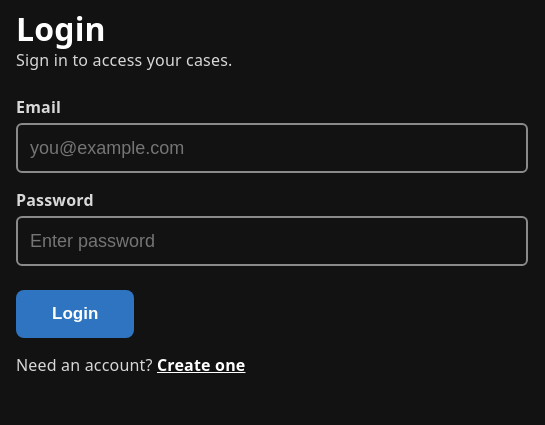
Scenario: LoginScreen errors (spec 016) › announces a failed login without marking a field
Type "daniel@example.com" into the field with placeholder "you@example.com" at (272, 148), box [16,123,528,173]
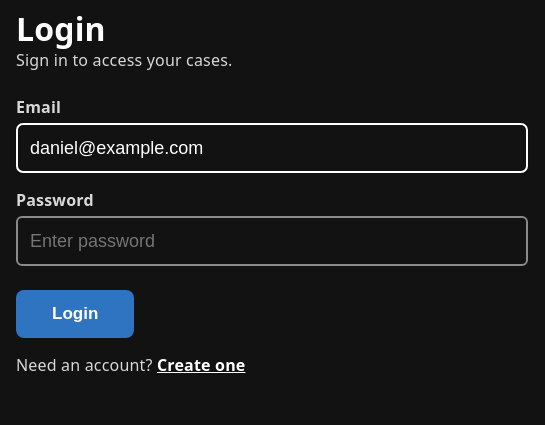
Type "secret123" into the password field with placeholder "Enter password" at (272, 241), box [16,216,528,266]
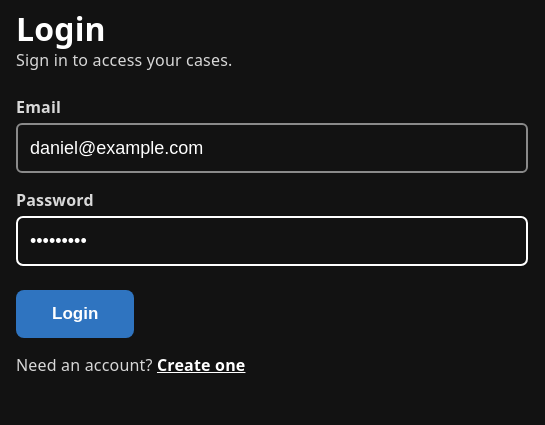
Click the button "Login" at (75, 314), box [16,290,134,338]
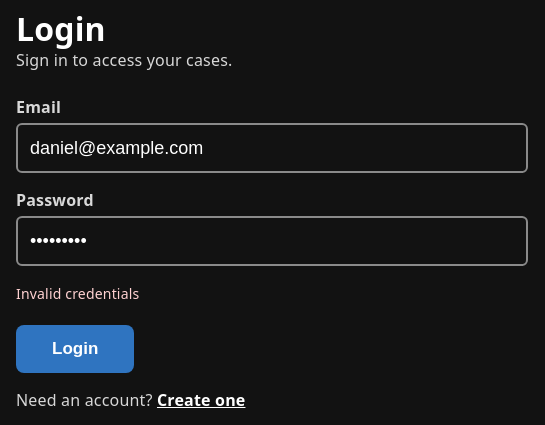
Expected: the message reads "Invalid credentials", [16,284,139,303]
